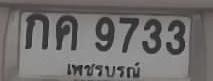3: (141, 18, 161, 53), (165, 19, 184, 54)
7: (119, 17, 138, 52)
9: (94, 16, 114, 51)
A01: (24, 13, 48, 49)
A04: (55, 14, 77, 49)
PNB: (65, 57, 144, 80)
